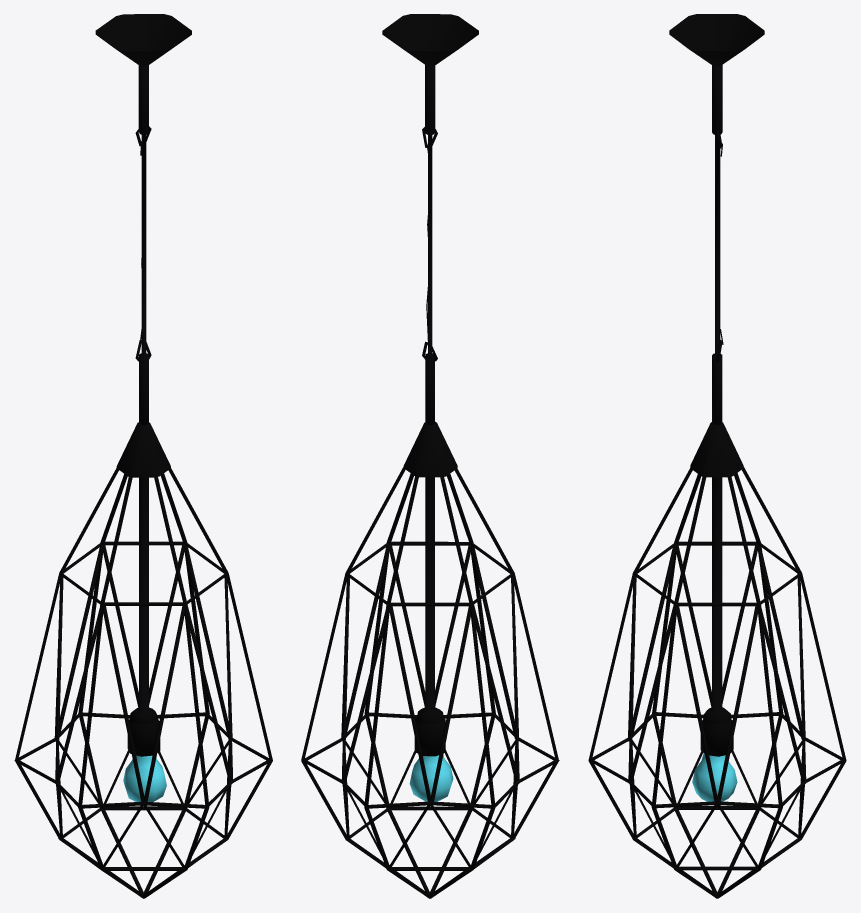
Rendered from SM_Pendantlight_012_B.FBX.
3 views of the same model, side by side, from view 1: azimuth 30°, elevation 25°; view 2: azimuth 150°, elevation 25°; view 3: azimuth 270°, elevation 25° (orthographic).
Visible parts, largest first — view 1: SM_Pendantlight_012_B; view 2: SM_Pendantlight_012_B; view 3: SM_Pendantlight_012_B.
Part boxes in pixels (<box>): SM_Pendantlight_012_B: <box>14,14,272,898</box>; SM_Pendantlight_012_B: <box>301,14,559,898</box>; SM_Pendantlight_012_B: <box>588,14,846,898</box>.
Bounding box in the file's own units: 22.68 × 26.03 × 96.26.
